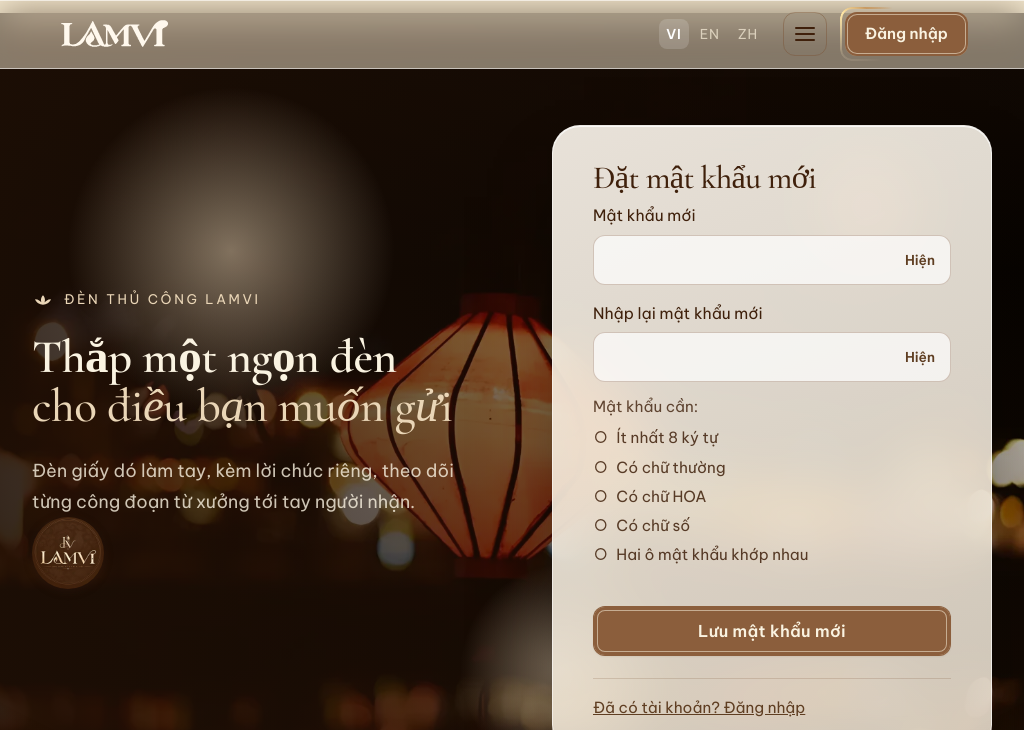
Test: ResetPasswordPage: đọc token từ fragment › 429 RATE_LIMITED → hiện lỗi, form còn
The image size is (1024, 730).
Expected: the heading "Đặt mật khẩu mới" is shown, [593, 158, 816, 197]
Type "Moi-Nang#Xuan71" into the password field labelled "Mật khẩu mới".
click(772, 260); type("Moi-Nang#Xuan71")  # box [593, 235, 951, 284]
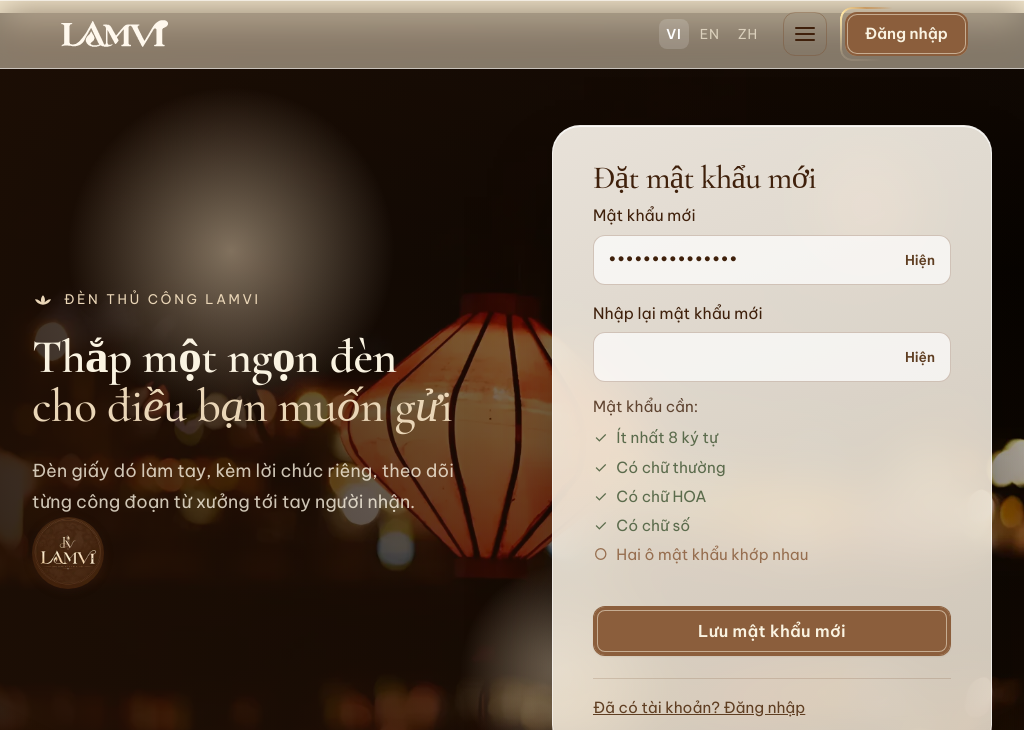
Type "Moi-Nang#Xuan71" into the password field labelled "Nhập lại mật khẩu mới".
click(772, 357); type("Moi-Nang#Xuan71")  # box [593, 332, 951, 382]
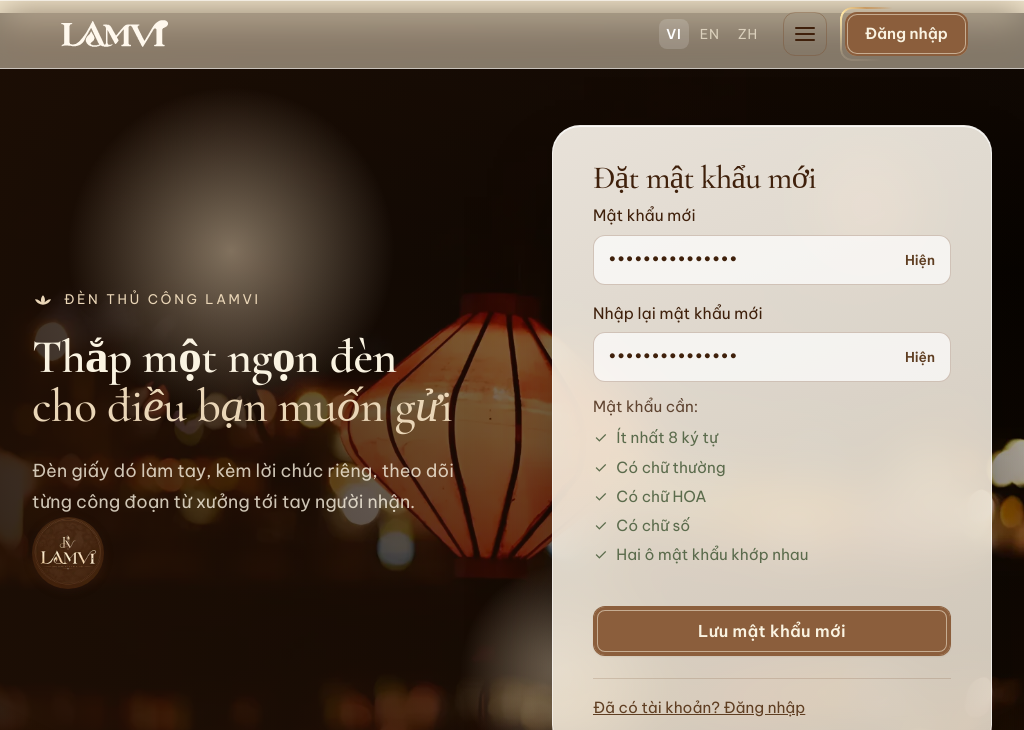
Click the button "Lưu mật khẩu mới".
click(772, 630)  # box [593, 606, 951, 656]
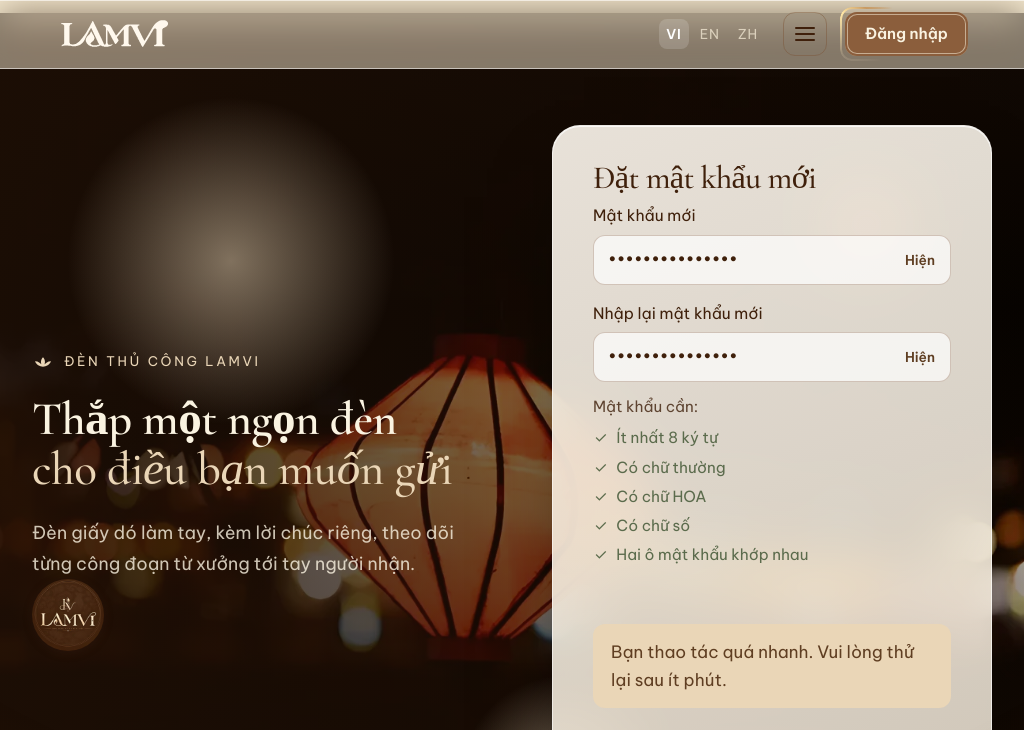
Expected: the message "Bạn thao tác quá nhanh. Vui lòng thử lại sau ít phút." is shown, [593, 624, 951, 708]
